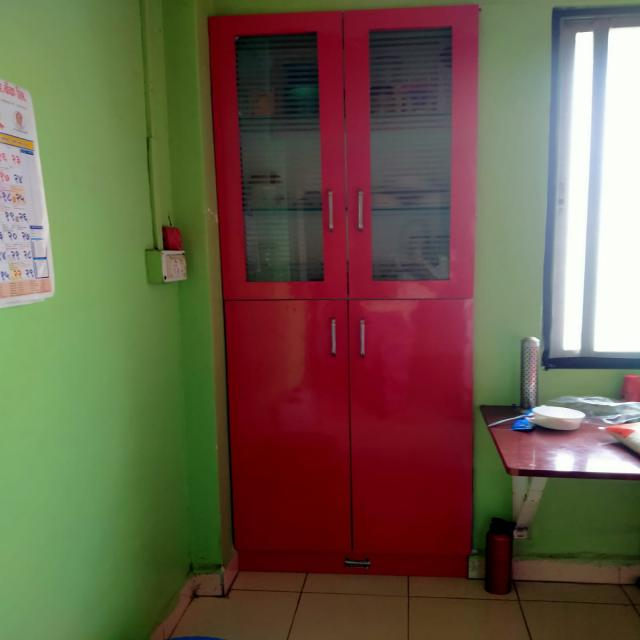Closet: (200, 2, 498, 581)
